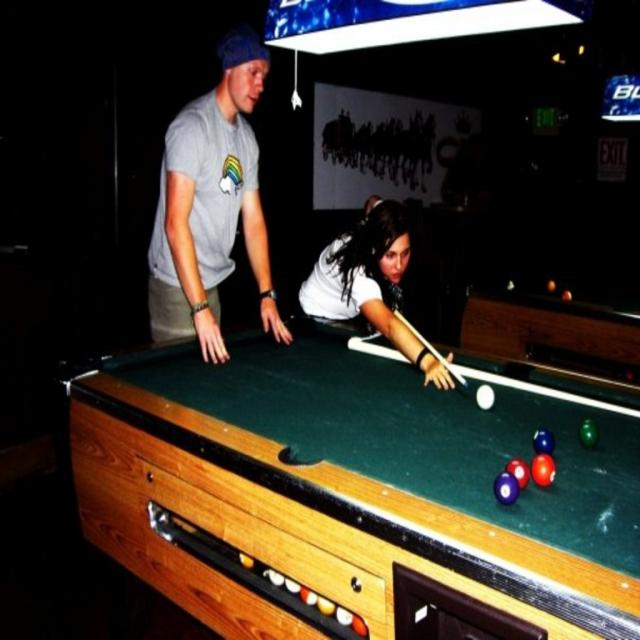Ball: (239, 280, 599, 636)
Billiard table: (52, 312, 640, 640)
